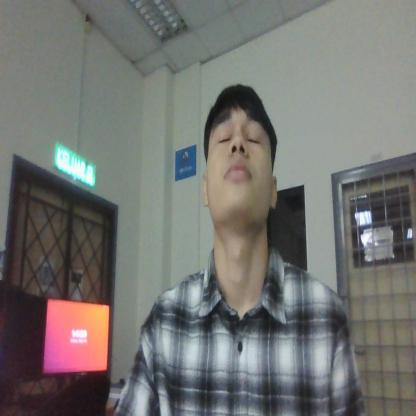Closed-Eyes: (212, 110, 265, 154)
